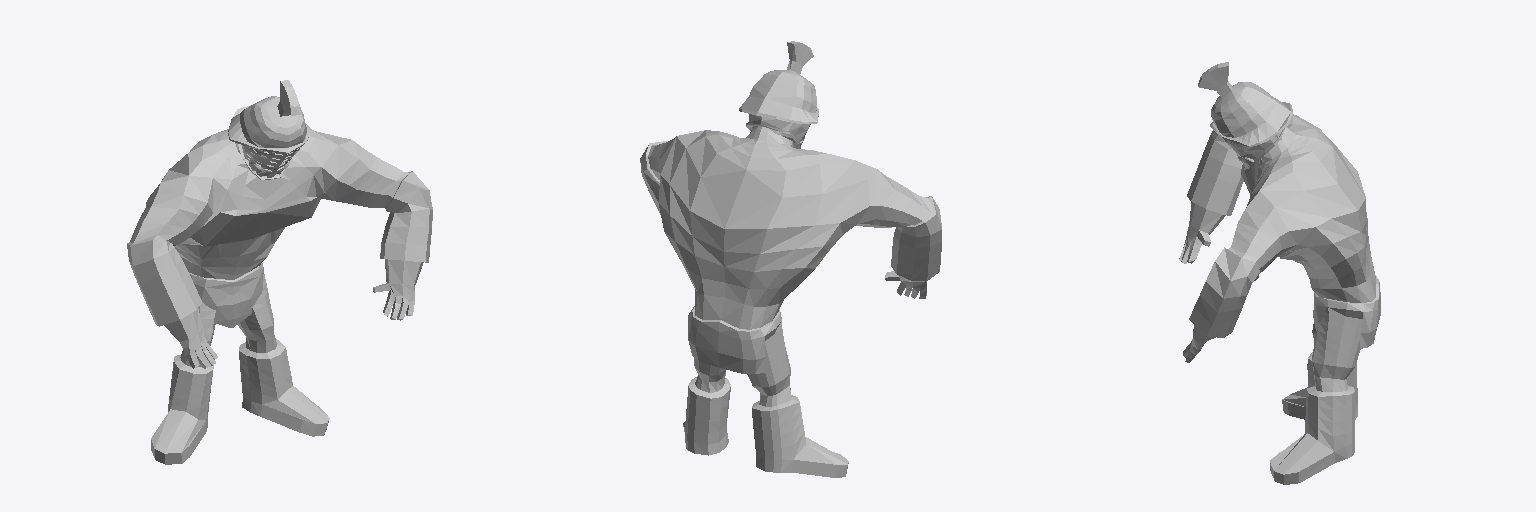
The model's file is GladiatorCelebracion_000452.obj.
The picture shows the model from 3 angles: view 1: azimuth 30°, elevation 25°; view 2: azimuth 150°, elevation 25°; view 3: azimuth 270°, elevation 25°; orthographic projection.
Visible parts, largest first — view 1: Gadiador_Gladiador_H; view 2: Gadiador_Gladiador_H; view 3: Gadiador_Gladiador_H.
Part boxes in pixels (bbox=[...]): Gadiador_Gladiador_H: bbox=[127, 80, 432, 464]; Gadiador_Gladiador_H: bbox=[640, 41, 941, 477]; Gadiador_Gladiador_H: bbox=[1179, 62, 1380, 484].
Bounding box in the file's own units: 5.53 × 6.89 × 3.24.